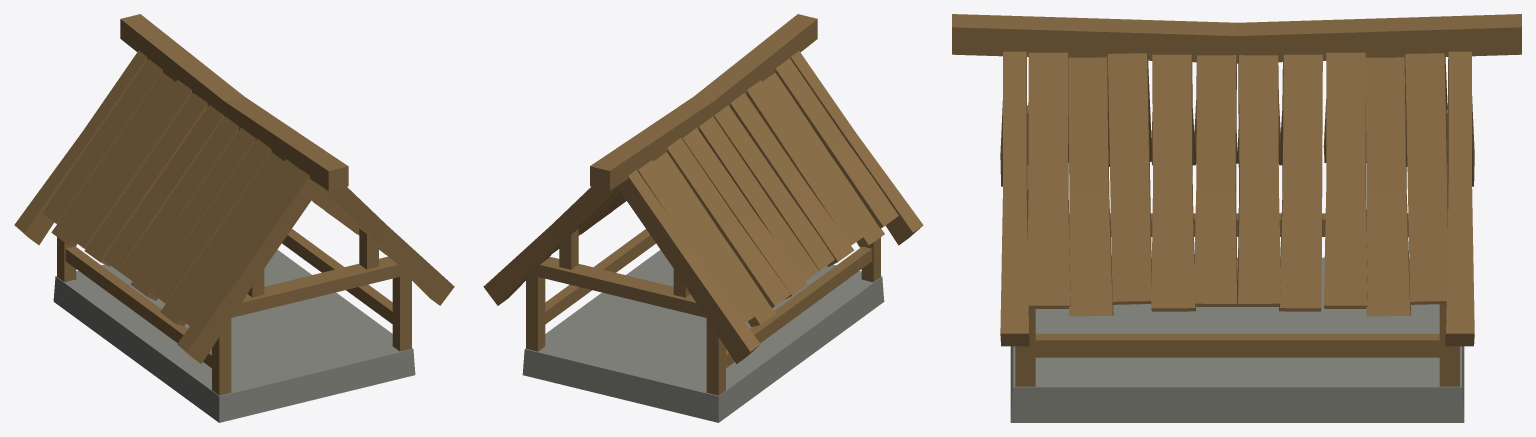
Rendered from quaternius-ultimate-fantasy-rts-houses-firstage-1-level-2.glb.
3 renders of one model, left to right at view 1: azimuth 30°, elevation 25°; view 2: azimuth 150°, elevation 25°; view 3: azimuth 270°, elevation 25°, orthographic. The views are drawn at different scales.
Visible parts, largest first — view 1: Houses_FirstAge_1_Level2; view 2: Houses_FirstAge_1_Level2; view 3: Houses_FirstAge_1_Level2.
Boxes of the visible parts, x1,y1,x2,y2 form: Houses_FirstAge_1_Level2: (14,14,454,422); Houses_FirstAge_1_Level2: (483,14,923,422); Houses_FirstAge_1_Level2: (952,14,1521,422).
Bounding box in the file's own units: 0.8693 × 0.7645 × 1.17.
